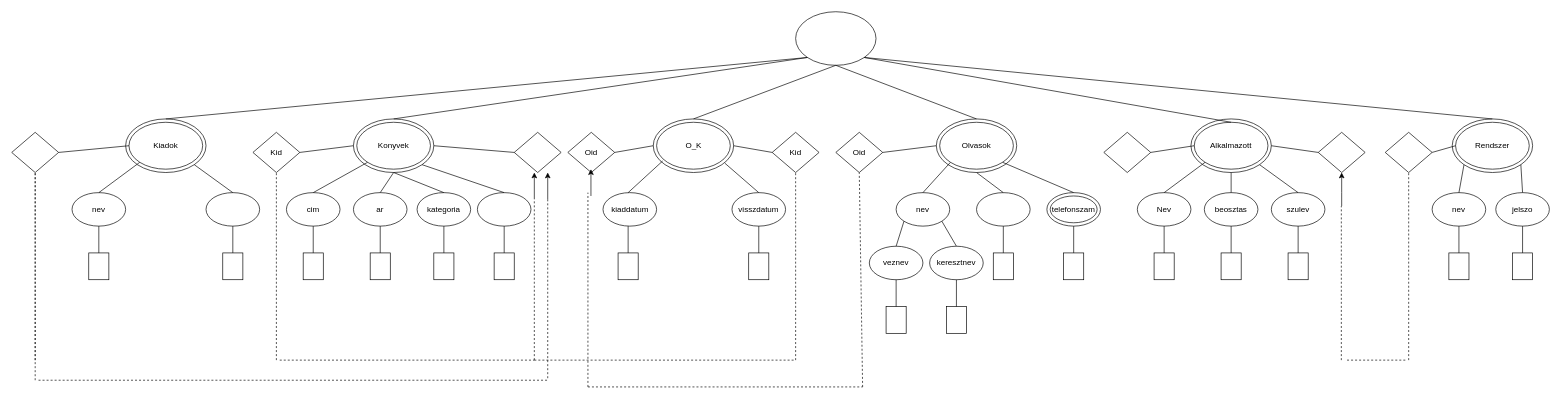
Image size: 1561x399. Some labels were removed from this diagram. The shapes that lost their labels are listed below. From the top down, each one's centre as x and y in pixels, then its label:
At point 835,38: "Nyilvantartas".
At point 35,152: "Kiadoid".
At point 537,152: "K_K".
At point 1127,152: "Aid".
At point 1341,152: "A_R".
At point 1408,152: "loginid".
At point 232,209: "kiadaseve".
At point 504,209: "szerzo".
At point 1003,209: "kor".
